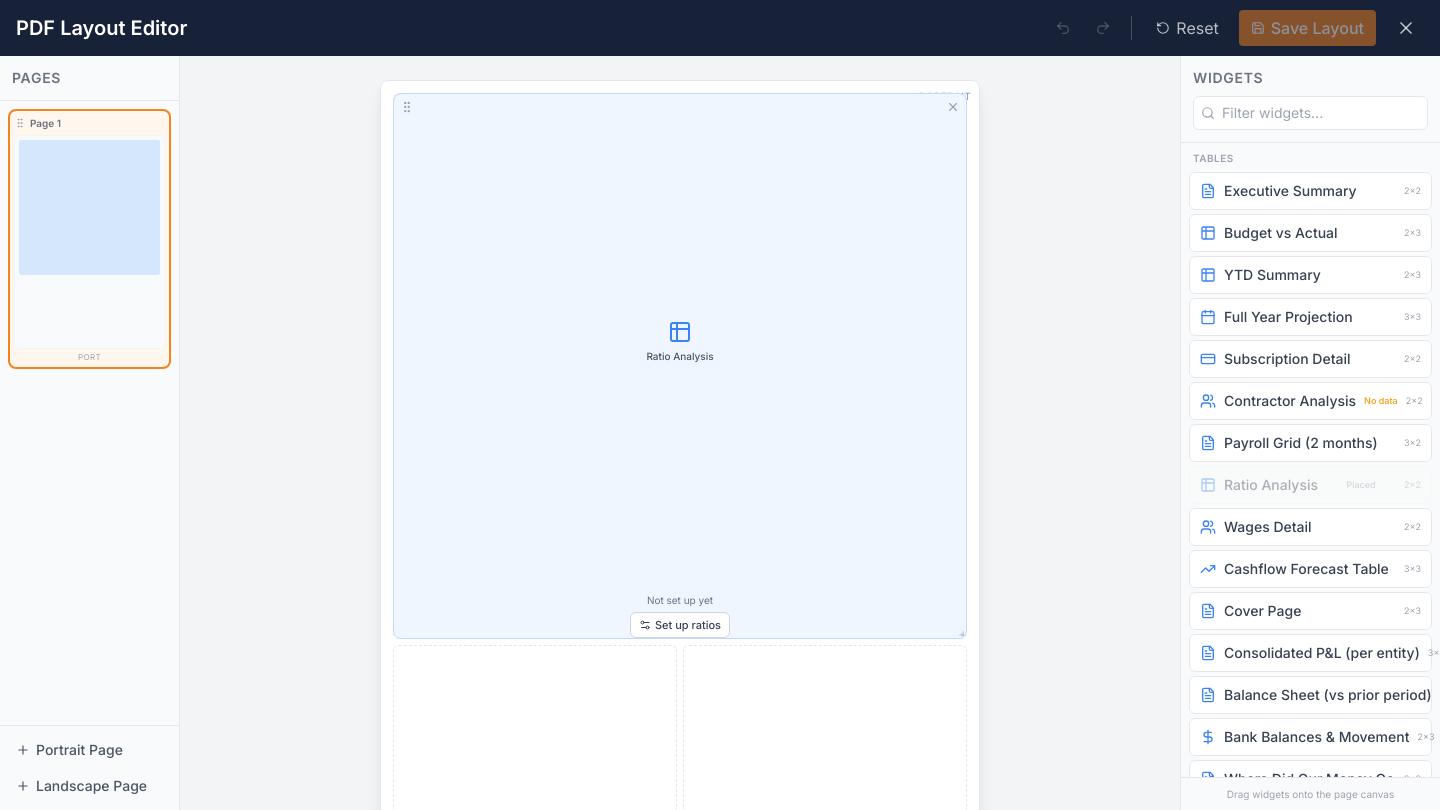
Test case: the account list, fail-open › a refused business gets the refusal sentence, not an account list
What coordinates should you click on to do the following:
click the button "Set up ratios"
I would click on:
 (680, 625)
Its box is [630,612,730,638].
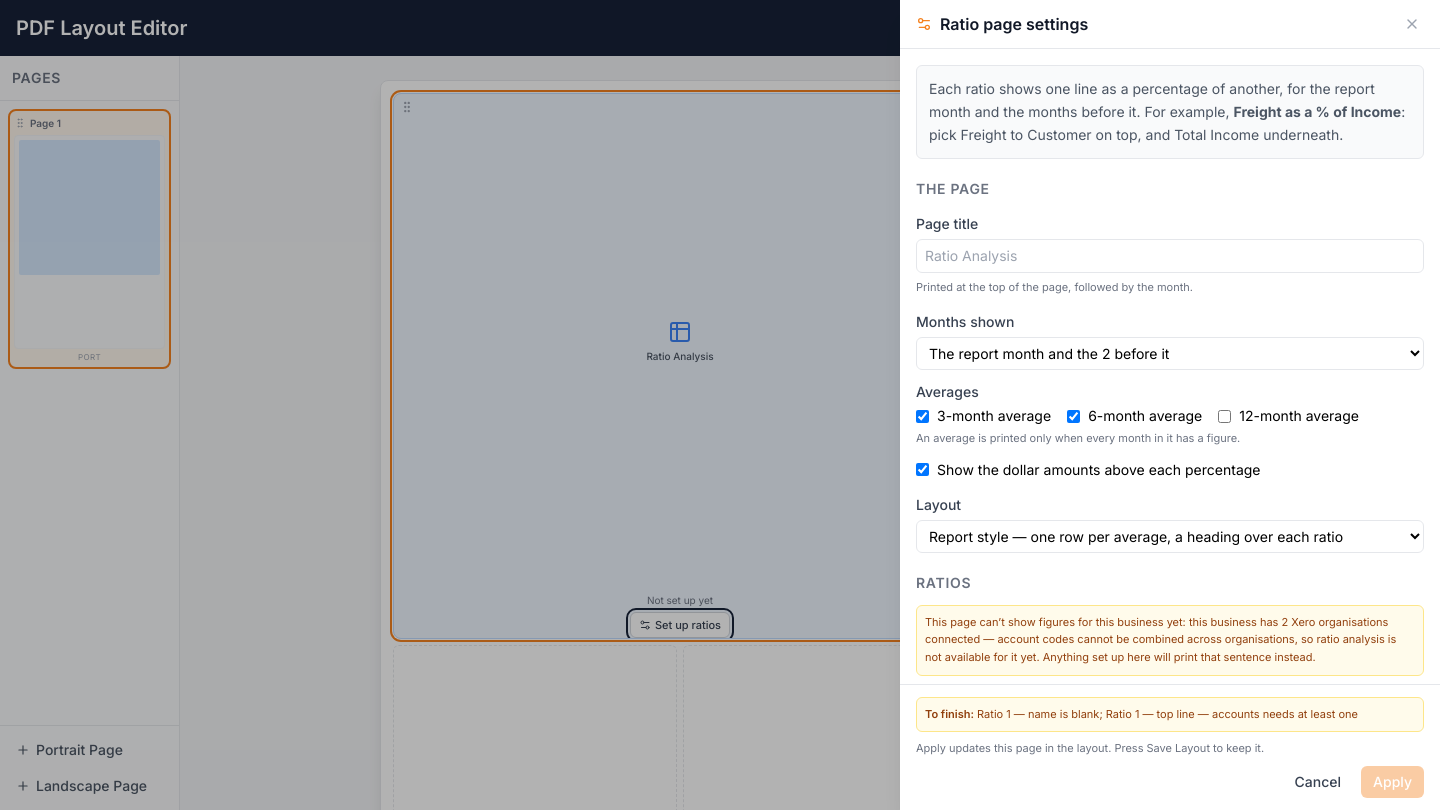
Expected: the text "2 Xero organisations connected" is shown, [925,615,1396,664]
Expected: the text "This page can’t show figures for this business yet" is shown, [925,615,1189,629]
Expected: the text "Anything set up here will print that sentence instead" is shown, [1036,650,1316,664]
